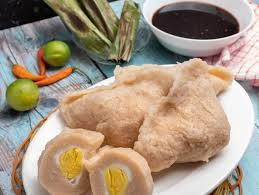Pempek kapal selam: (122, 57, 231, 168), (59, 65, 175, 148), (39, 125, 153, 195)
